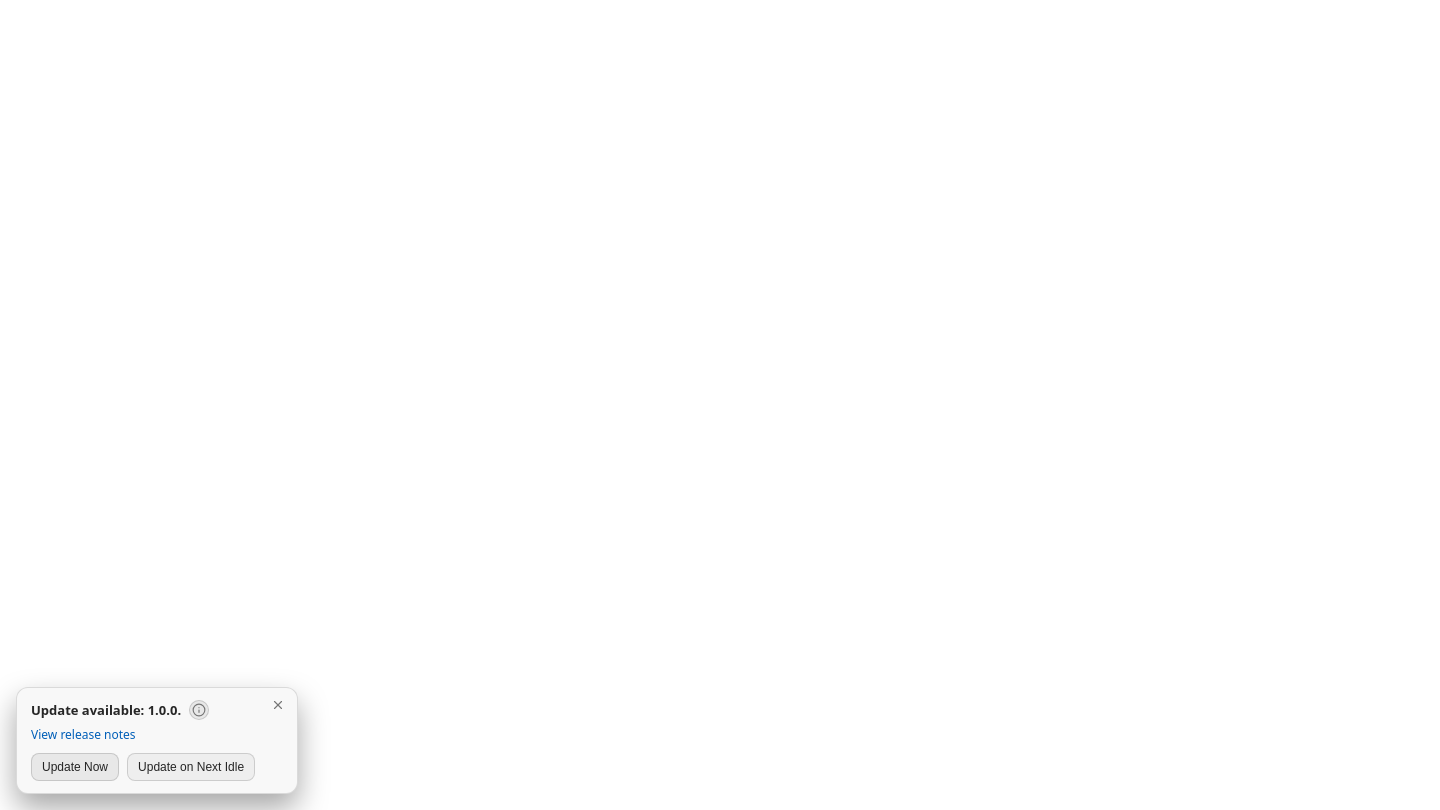
Scenario: UpdateNoticeBanner › opens the update timing info modal from the info button
Click the button named "Learn about update timing": (199, 710) [189, 700, 209, 720]
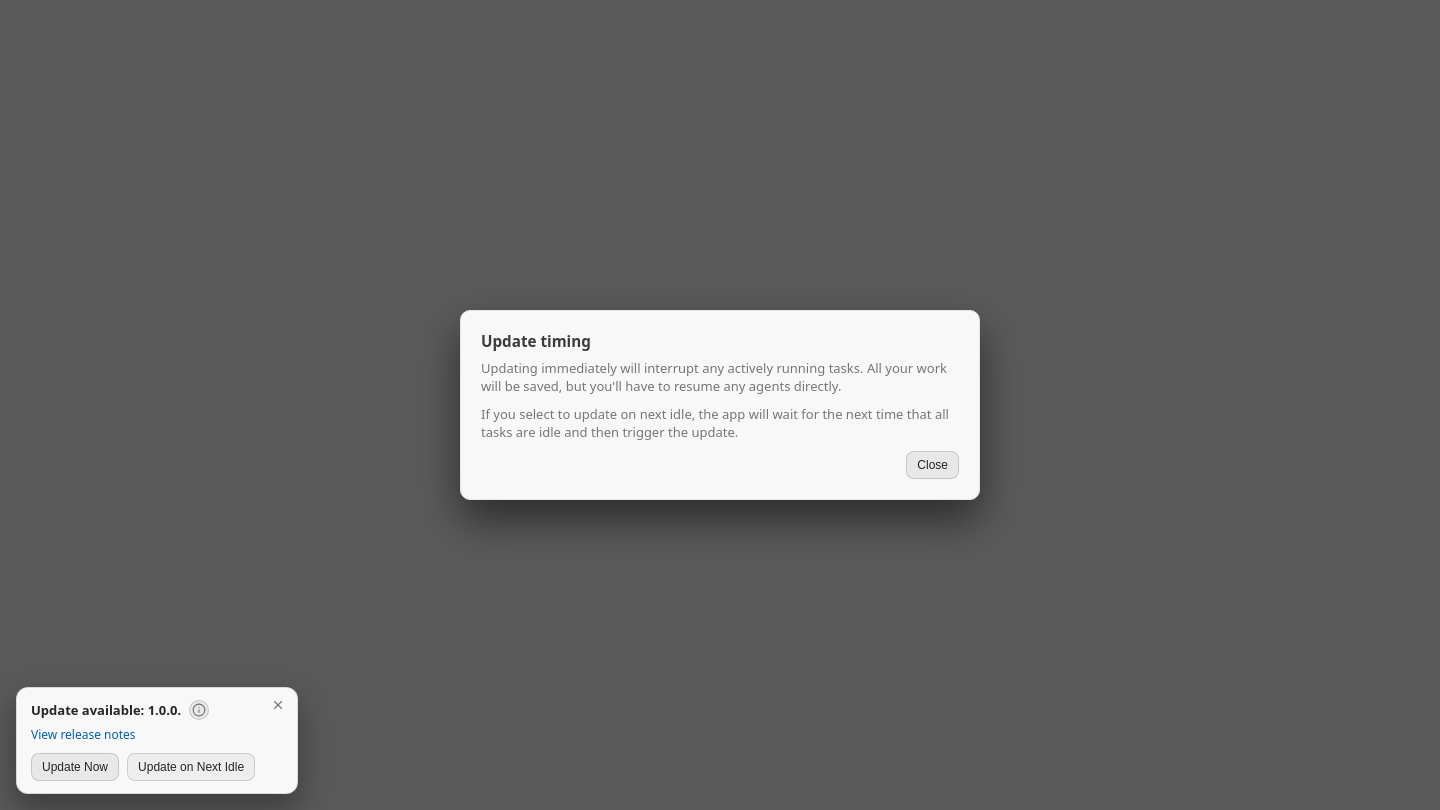
Expected: the dialog named "Update timing info" is shown
Expected: the text "Updating immediately will interrupt any actively running tasks" is shown, [481, 359, 947, 395]
